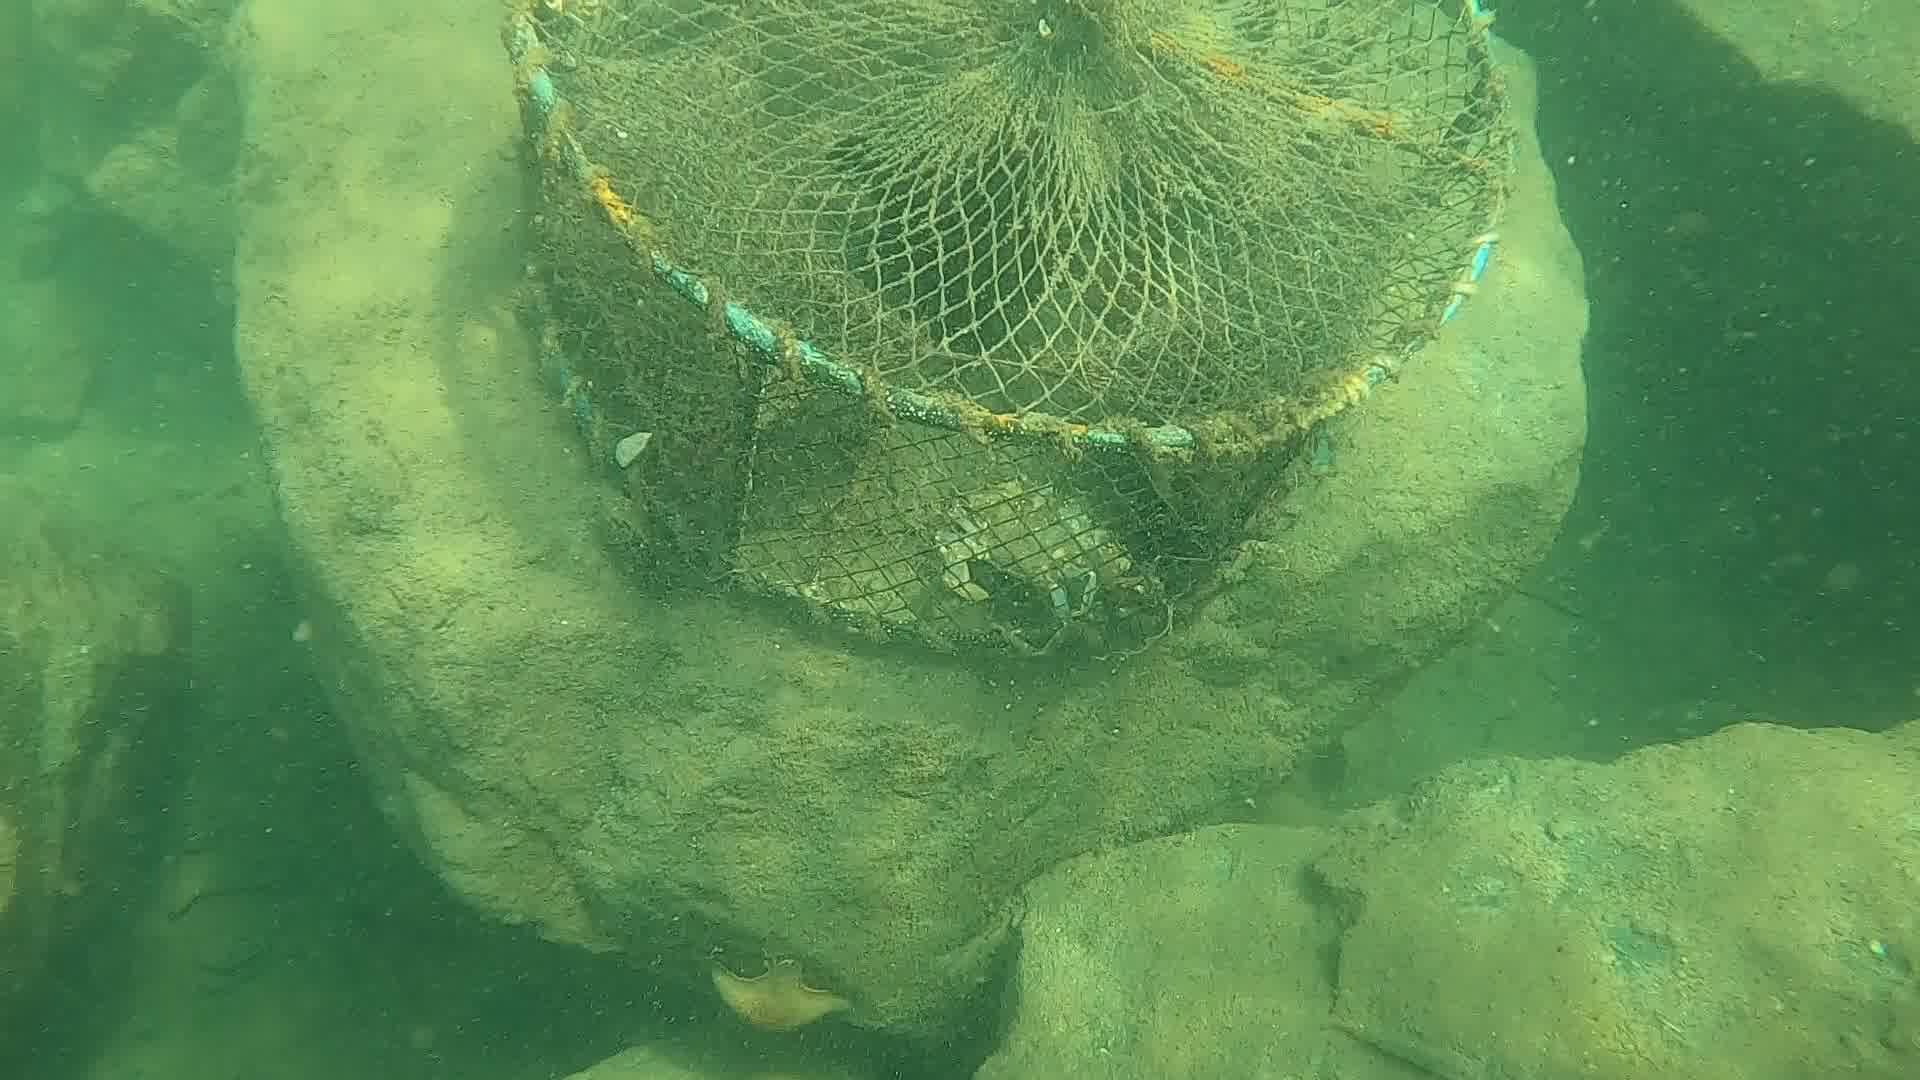circular fish trap: (502, 1, 1510, 674)
